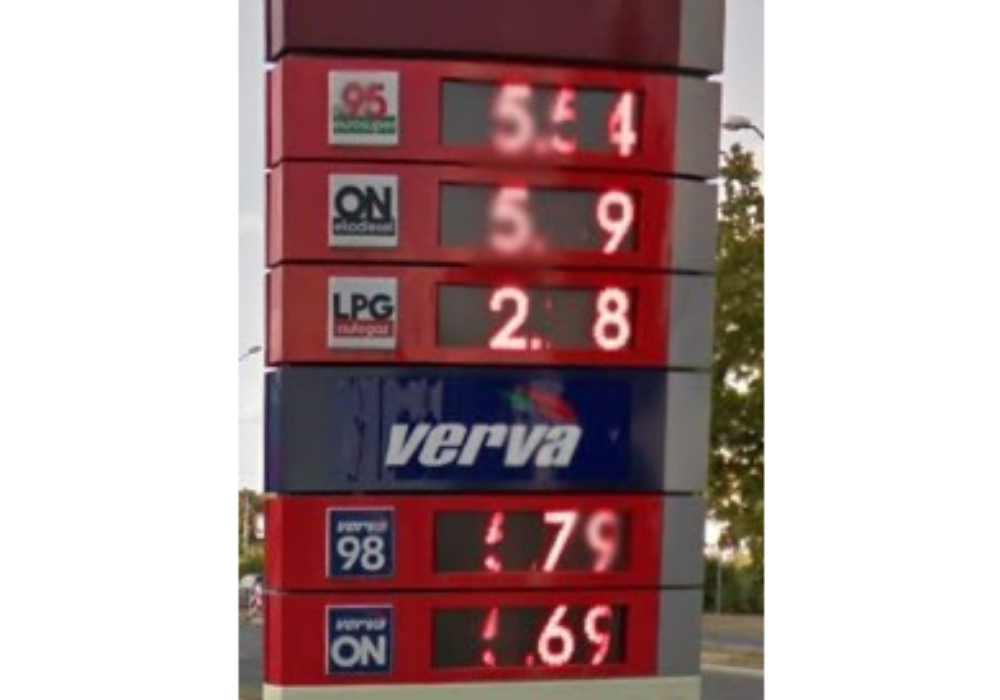LPG: (324, 274, 398, 349)
ON: (324, 170, 400, 250), (324, 602, 395, 679)
PB95: (324, 67, 401, 147)
PB98: (321, 505, 396, 578)
